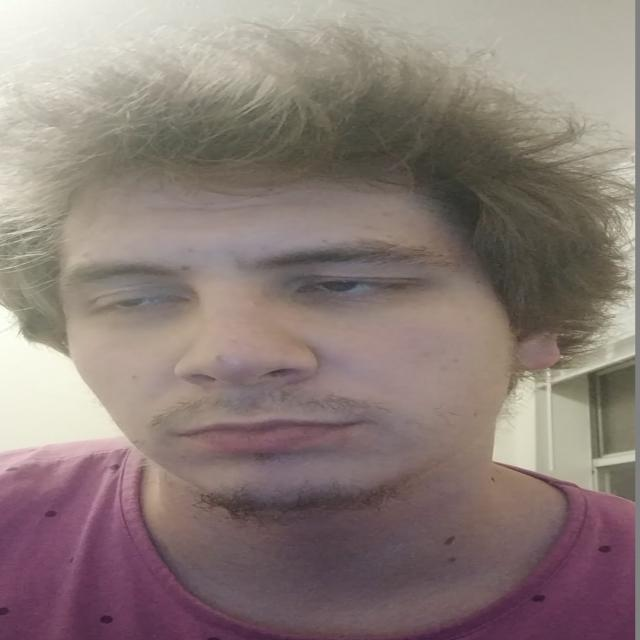Eyeclosed: (289, 270, 427, 308), (86, 284, 190, 322)
